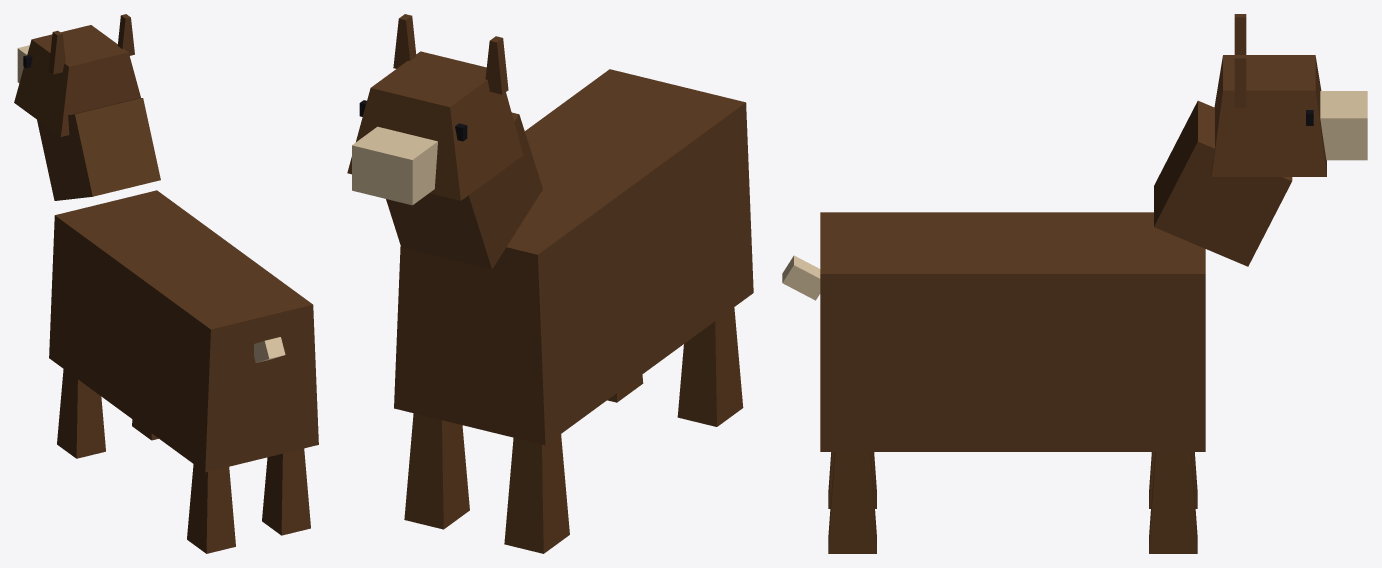
The model's file is animal_boar.glb.
The picture shows the model from 3 angles, left to right: view 1: azimuth 30°, elevation 25°; view 2: azimuth 150°, elevation 25°; view 3: azimuth 270°, elevation 25°; orthographic projection. The views are drawn at different scales.
Parts seen in each view (by area): view 1: animal_boar__mesh; view 2: animal_boar__mesh; view 3: animal_boar__mesh.
Part boxes in pixels (<box>): animal_boar__mesh: <box>14,14,318,553</box>; animal_boar__mesh: <box>347,14,753,553</box>; animal_boar__mesh: <box>782,14,1367,553</box>.
Bounding box in the file's own units: 0.42 × 1.39 × 1.52.
